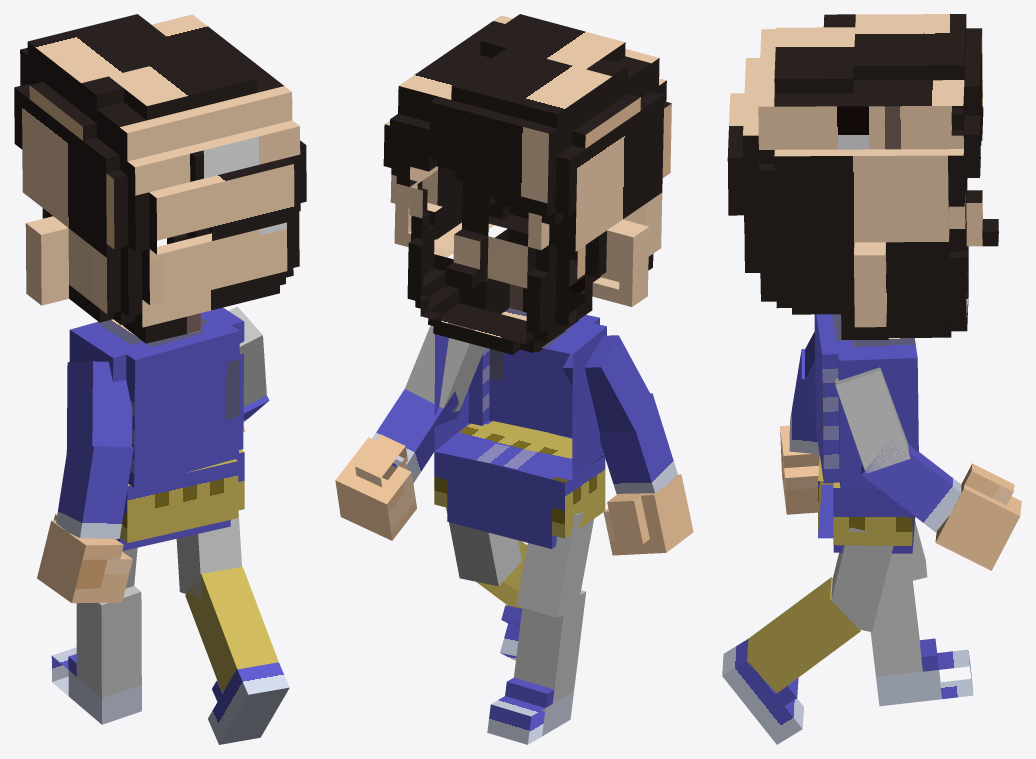
Rendered from kid_walk.dae.
3 views of the same model, side by side, from view 1: azimuth 30°, elevation 25°; view 2: azimuth 150°, elevation 25°; view 3: azimuth 270°, elevation 25° (orthographic). The views are drawn at different scales.
Visible parts, largest first — view 1: Head-local, Chest-local, Hip-local, Right_Leg-local, Left_Forearm-local, Left_Leg-local, Left_Hand-local, Left_Arm-local, Right_Foot-local, Right_Thigh-local, Left_Foot-local, Right_Arm-local; view 2: Head-local, Chest-local, Hip-local, Right_Hand-local, Left_Hand-local, Left_Leg-local, Left_Thigh-local, Left_Arm-local, Left_Forearm-local, Left_Foot-local, Right_Forearm-local, Right_Arm-local (+3 smaller); view 3: Head-local, Chest-local, Right_Leg-local, Right_Hand-local, Hip-local, Right_Arm-local, Right_Forearm-local, Left_Leg-local, Right_Foot-local, Right_Thigh-local, Left_Foot-local, Left_Hand-local (+2 smaller).
Boxes of the visible parts, left/top/right/bottom form: Head-local: left=14, top=14, right=306, bottom=343; Chest-local: left=69, top=307, right=244, bottom=487; Hip-local: left=116, top=449, right=244, bottom=550; Right_Leg-local: left=185, top=566, right=278, bottom=691; Left_Forearm-local: left=56, top=435, right=133, bottom=538; Left_Leg-local: left=76, top=586, right=141, bottom=697; Left_Hand-local: left=37, top=514, right=132, bottom=603; Left_Arm-local: left=66, top=361, right=132, bottom=455; Right_Foot-local: left=208, top=662, right=289, bottom=744; Right_Thigh-local: left=176, top=511, right=241, bottom=599; Left_Foot-local: left=51, top=647, right=141, bottom=724; Right_Arm-local: left=228, top=306, right=266, bottom=406; Head-local: left=383, top=14, right=671, bottom=354; Chest-local: left=434, top=308, right=606, bottom=480; Hip-local: left=434, top=421, right=605, bottom=548; Right_Hand-local: left=335, top=434, right=416, bottom=540; Left_Hand-local: left=603, top=474, right=693, bottom=555; Left_Leg-local: left=514, top=590, right=585, bottom=703; Left_Thigh-local: left=516, top=512, right=593, bottom=617; Left_Arm-local: left=562, top=335, right=654, bottom=433; Left_Forearm-local: left=599, top=393, right=677, bottom=494; Left_Foot-local: left=487, top=677, right=573, bottom=744; Right_Forearm-local: left=372, top=389, right=461, bottom=483; Right_Arm-local: left=405, top=325, right=484, bottom=412; Head-local: left=727, top=14, right=998, bottom=339; Chest-local: left=814, top=314, right=918, bottom=489; Right_Leg-local: left=746, top=577, right=860, bottom=693; Right_Hand-local: left=935, top=463, right=1021, bottom=570; Hip-local: left=818, top=456, right=915, bottom=553; Right_Arm-local: left=835, top=367, right=910, bottom=473; Right_Forearm-local: left=861, top=440, right=961, bottom=532; Left_Leg-local: left=870, top=569, right=922, bottom=676; Right_Foot-local: left=722, top=639, right=803, bottom=744; Right_Thigh-local: left=831, top=527, right=893, bottom=631; Left_Foot-local: left=876, top=638, right=973, bottom=706; Left_Hand-local: left=780, top=425, right=819, bottom=514.
Size of the model in its own units: 19.08 by 46.49 by 18.99.
